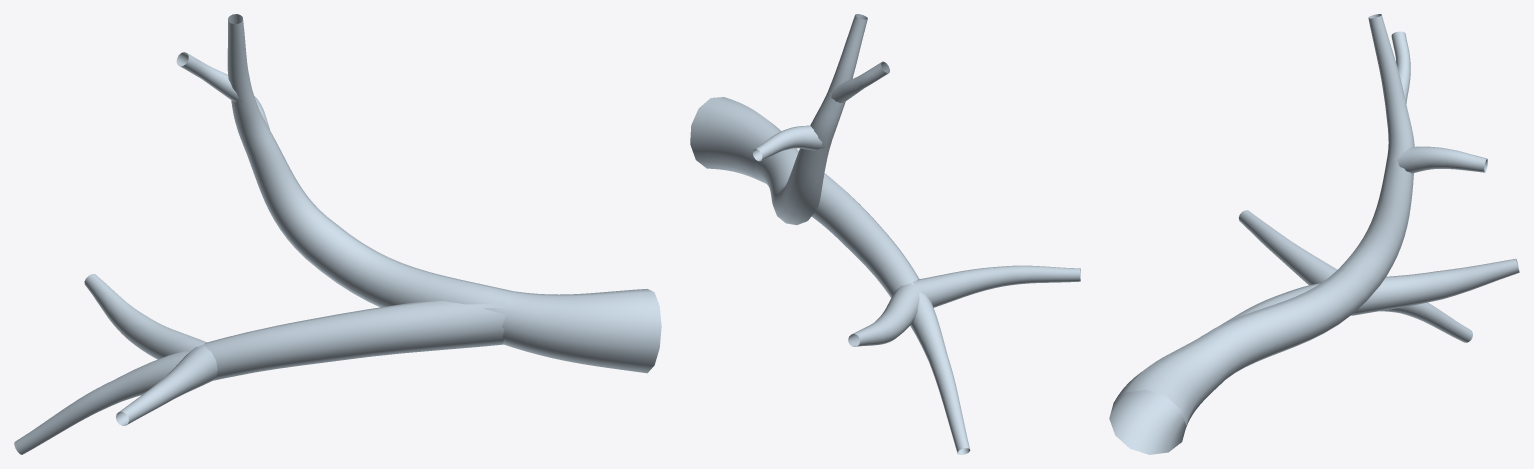
Rendered from visceras-posterior-segmental-bronchus-of-right-lung-bii.glb.
The picture shows the model from 3 angles, left to right: view 1: azimuth 30°, elevation 25°; view 2: azimuth 150°, elevation 25°; view 3: azimuth 270°, elevation 25°; orthographic projection. The views are drawn at different scales.
Parts seen in each view (by area): view 1: Posterior segmental bronchus of right lung (BII); view 2: Posterior segmental bronchus of right lung (BII); view 3: Posterior segmental bronchus of right lung (BII).
Part boxes in pixels (x1,y1,x2,y2): Posterior segmental bronchus of right lung (BII): (14,14,661,454); Posterior segmental bronchus of right lung (BII): (690,14,1080,454); Posterior segmental bronchus of right lung (BII): (1109,14,1519,454).
Bounding box in the file's own units: 0.0726 × 0.0616 × 0.0569.
